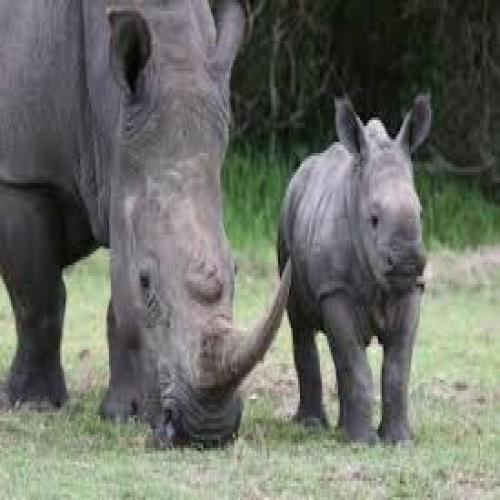rhino-endangered: (3, 11, 293, 448), (278, 91, 433, 449)
